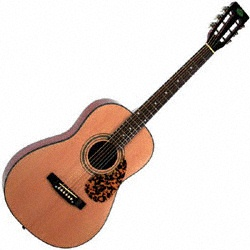guitar: (3, 1, 249, 250)
